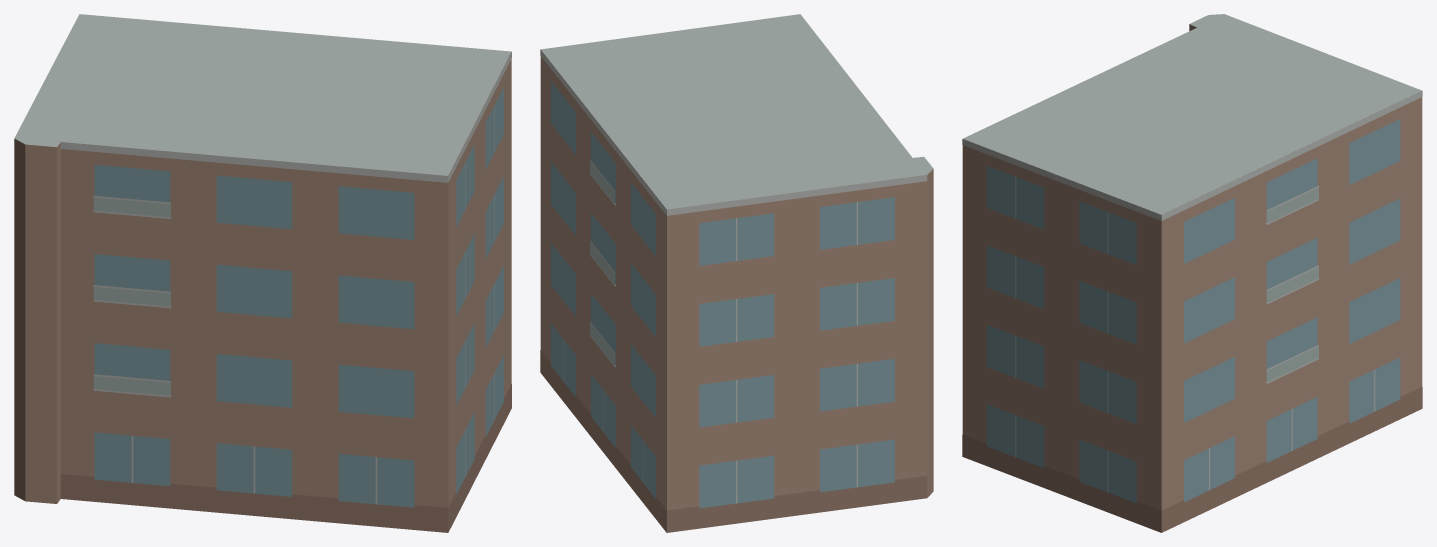
Rendered from survey-upis-32524294.glb.
3 renders of one model, left to right at view 1: azimuth 30°, elevation 25°; view 2: azimuth 150°, elevation 25°; view 3: azimuth 270°, elevation 25°, orthographic. The views are drawn at different scales.
Visible parts, largest first — view 1: survey-upis-32524294.tmp; view 2: survey-upis-32524294.tmp; view 3: survey-upis-32524294.tmp.
Part boxes in pixels (box(x1,y1,x2,y2)): survey-upis-32524294.tmp: box(14, 14, 511, 532); survey-upis-32524294.tmp: box(540, 14, 933, 532); survey-upis-32524294.tmp: box(962, 14, 1422, 532).
Size of the model in its own units: 17.01 by 12.55 by 16.46.
